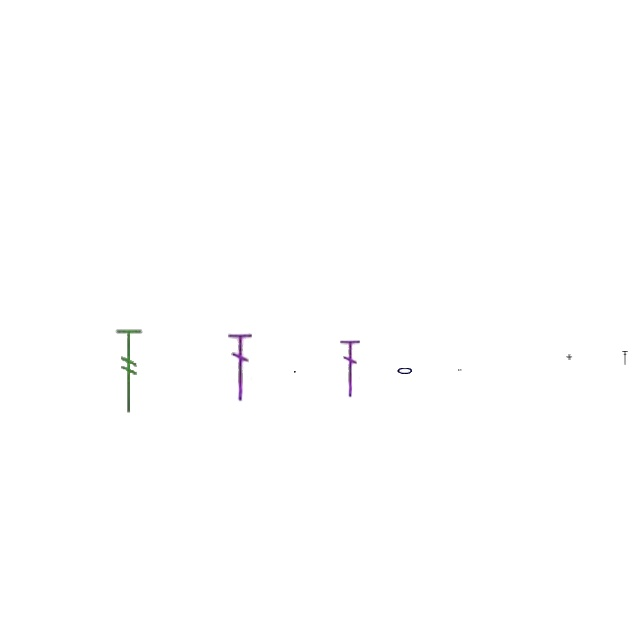chain: (396, 364, 414, 378), (458, 369, 462, 371), (294, 371, 296, 373)
double: (566, 354, 574, 360)
double treble: (228, 330, 252, 402), (340, 338, 360, 398), (622, 351, 628, 365)
fan: (114, 327, 146, 415)
